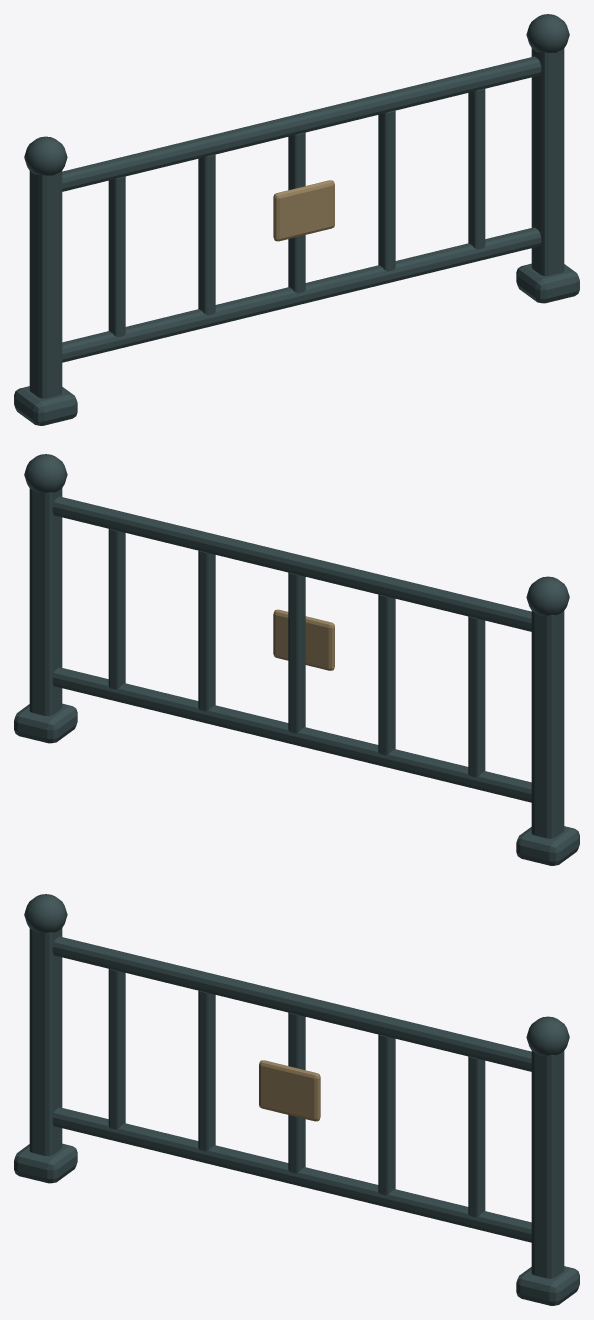
File: RailingKarakoy.glb
3 renders of one model, top to bottom at view 1: azimuth 30°, elevation 25°; view 2: azimuth 150°, elevation 25°; view 3: azimuth 330°, elevation 25°, orthographic.
Parts seen in each view (by area): view 1: RK_RailingKarakoy_RailingKarakoy_Paint, RK_RailingKarakoy_RailingKarakoy_Accent; view 2: RK_RailingKarakoy_RailingKarakoy_Paint, RK_RailingKarakoy_RailingKarakoy_Accent; view 3: RK_RailingKarakoy_RailingKarakoy_Paint, RK_RailingKarakoy_RailingKarakoy_Accent.
Part boxes in pixels (x1,y1,x2,y2): RK_RailingKarakoy_RailingKarakoy_Paint: [14, 14, 579, 425]; RK_RailingKarakoy_RailingKarakoy_Accent: [273, 180, 334, 241]; RK_RailingKarakoy_RailingKarakoy_Paint: [14, 454, 579, 865]; RK_RailingKarakoy_RailingKarakoy_Accent: [273, 609, 334, 670]; RK_RailingKarakoy_RailingKarakoy_Paint: [14, 894, 579, 1305]; RK_RailingKarakoy_RailingKarakoy_Accent: [259, 1060, 320, 1121].
Size of the model in its own units: 2.61 by 1.26 by 0.22.
